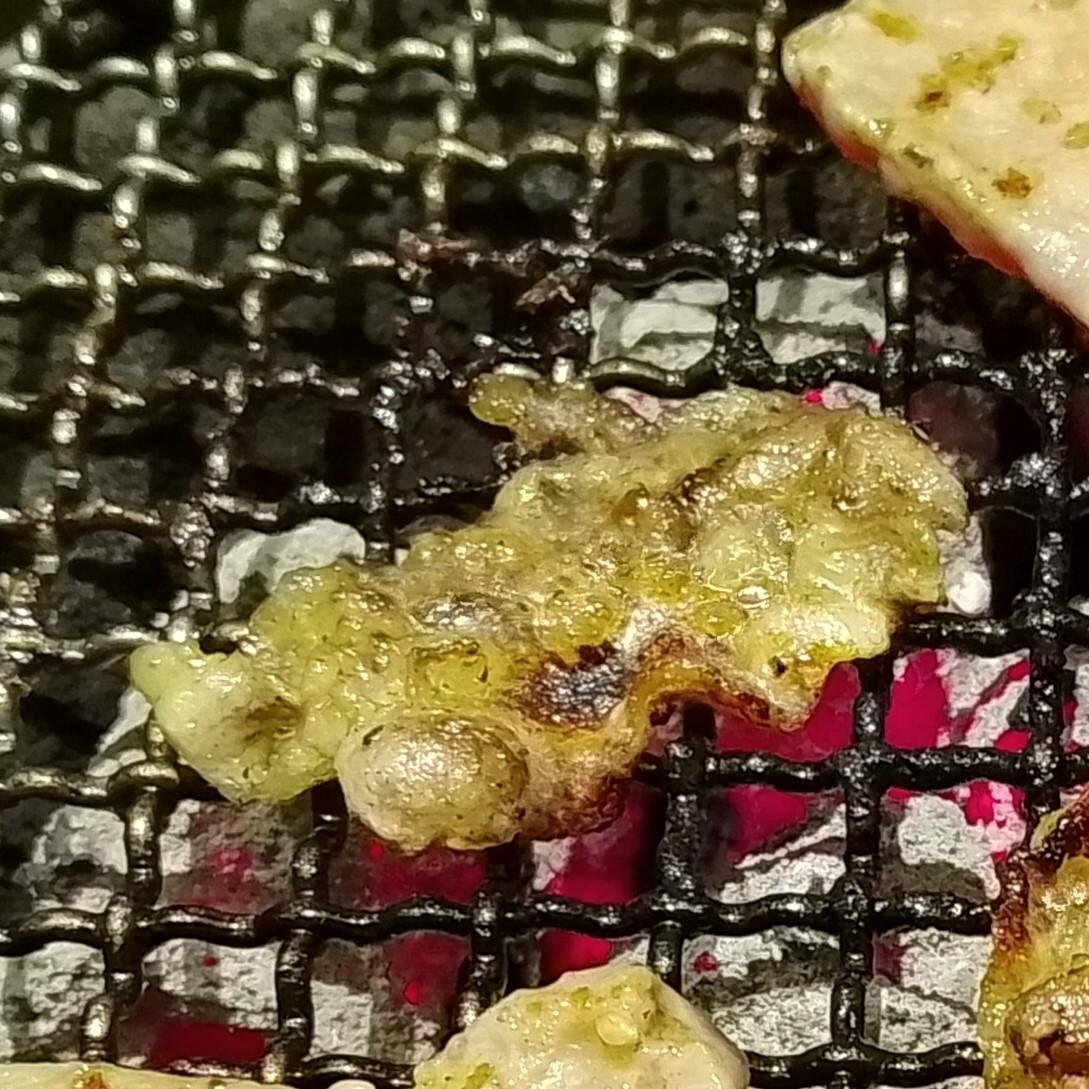Overcooked: (126, 383, 970, 859), (977, 776, 1088, 1088)
Well-Cooked: (782, 0, 1088, 334), (412, 963, 750, 1088)
